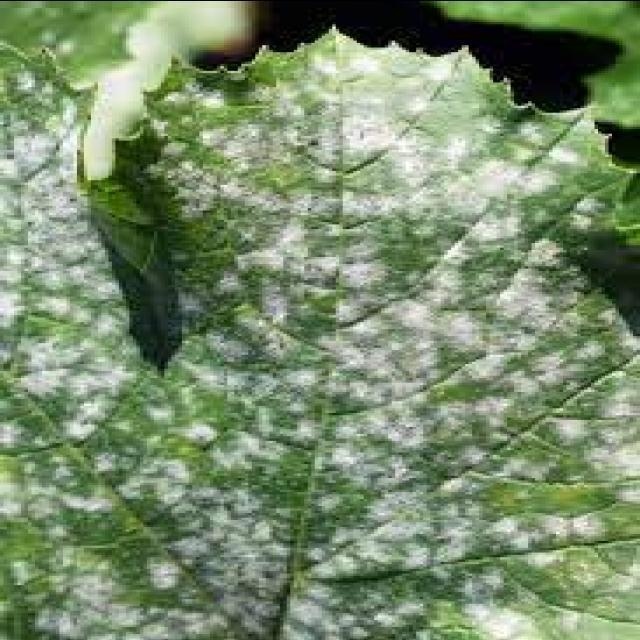Powdery_mildew_on_lettuce: (21, 46, 590, 625)
